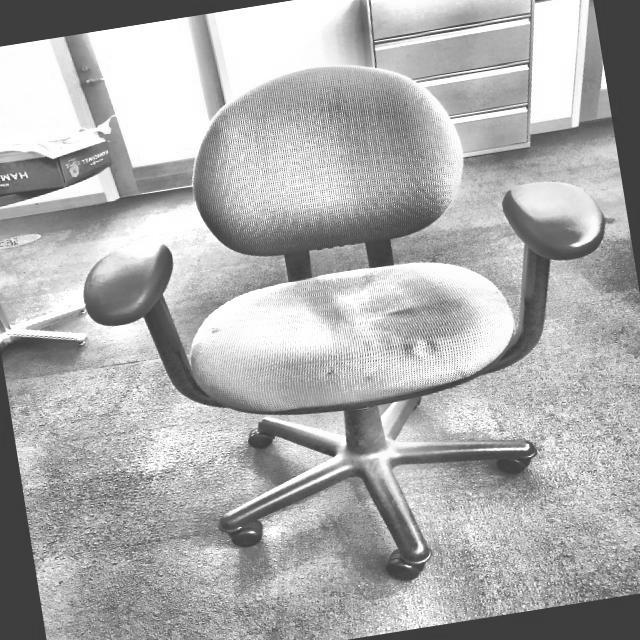chair: (48, 23, 640, 624)
